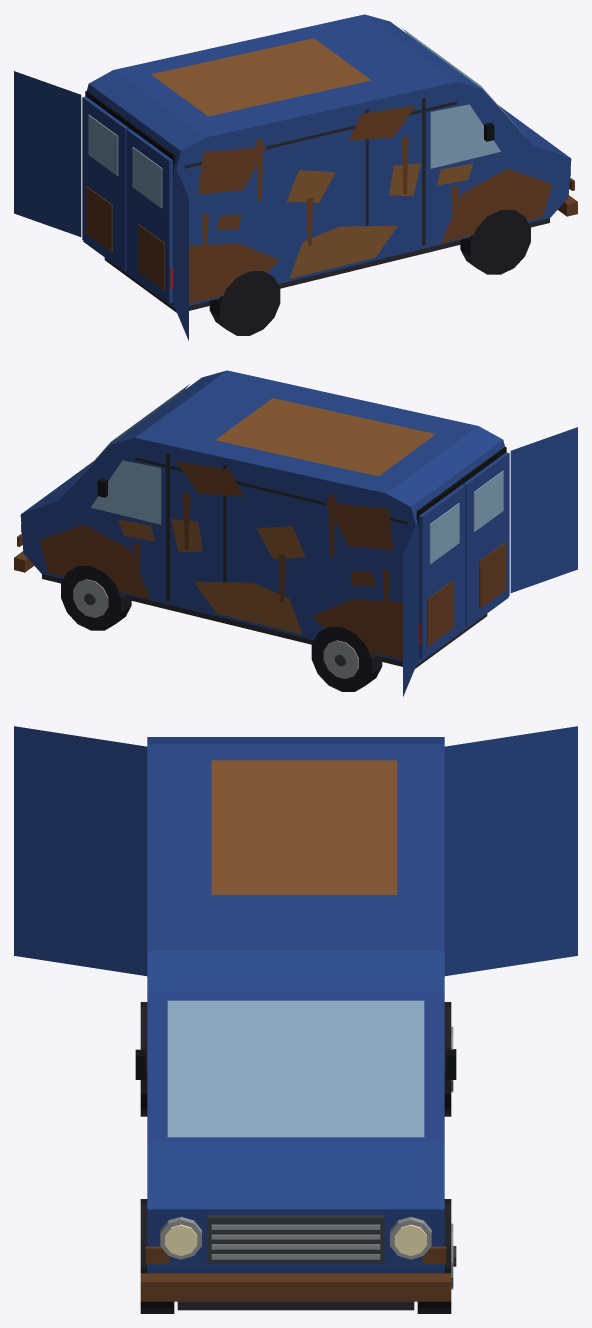
The model's file is rusty_van.glb.
3 renders of one model, top to bottom at view 1: azimuth 30°, elevation 25°; view 2: azimuth 150°, elevation 25°; view 3: azimuth 270°, elevation 25°, orthographic. The views are drawn at different scales.
Visible parts, largest first — view 1: Body, DoorsShut, DoorsOpen; view 2: Body, DoorsShut, DoorsOpen; view 3: Body, DoorsOpen.
Boxes of the visible parts, x1,y1,x2,y2 form: Body: (83, 14, 577, 335); DoorsShut: (82, 96, 172, 303); DoorsOpen: (14, 71, 188, 340); Body: (14, 370, 508, 691); DoorsShut: (419, 452, 509, 659); DoorsOpen: (403, 427, 577, 696); Body: (135, 737, 456, 1313); DoorsOpen: (14, 726, 577, 976).
Size of the model in its own units: 4.72 by 2.19 by 3.34.
